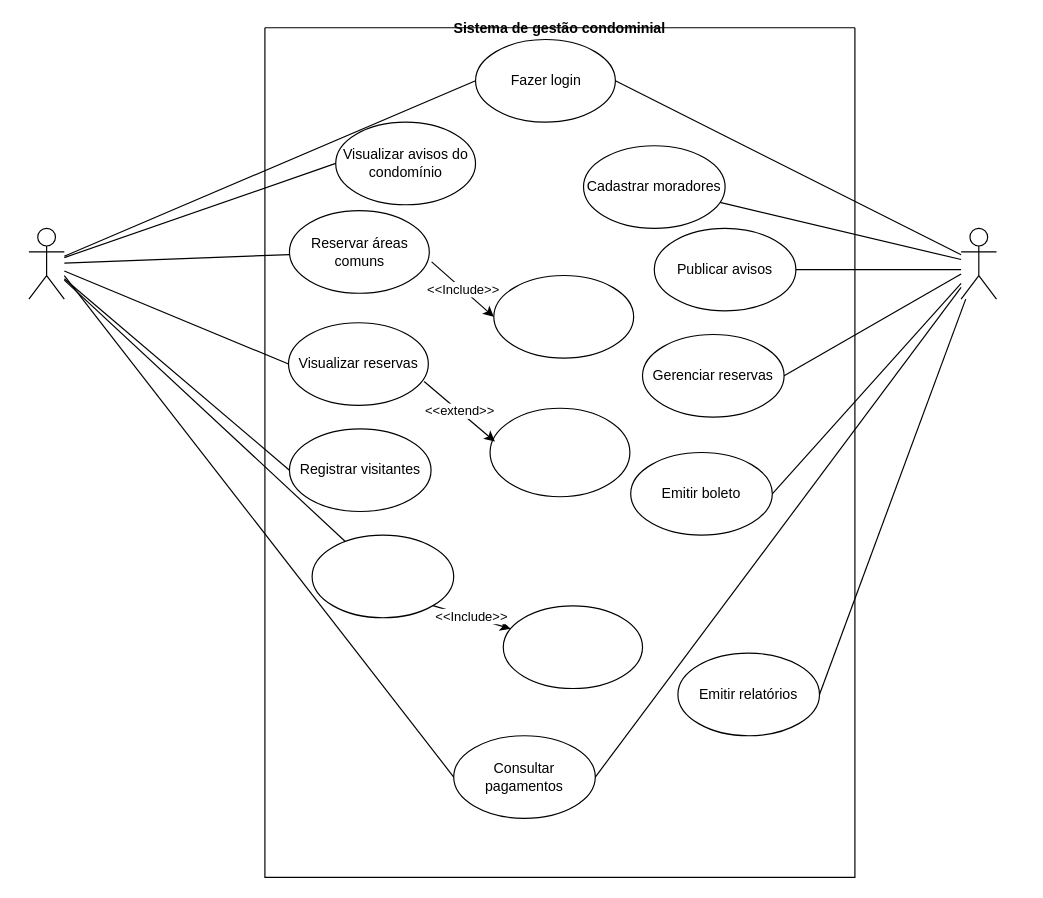
The diagram is 1043 pixels wide and 898 high, and some of its shapes have lost their labels. Each missing label, with the centre of its shape:
Administrador: the point at 978,263
Cancelar reservas: the point at 559,452
Morador: the point at 46,263
Pagar condomínio: the point at 382,576
Verificar disponibilidade: the point at 563,316
Visualizar boleto: the point at 572,647
